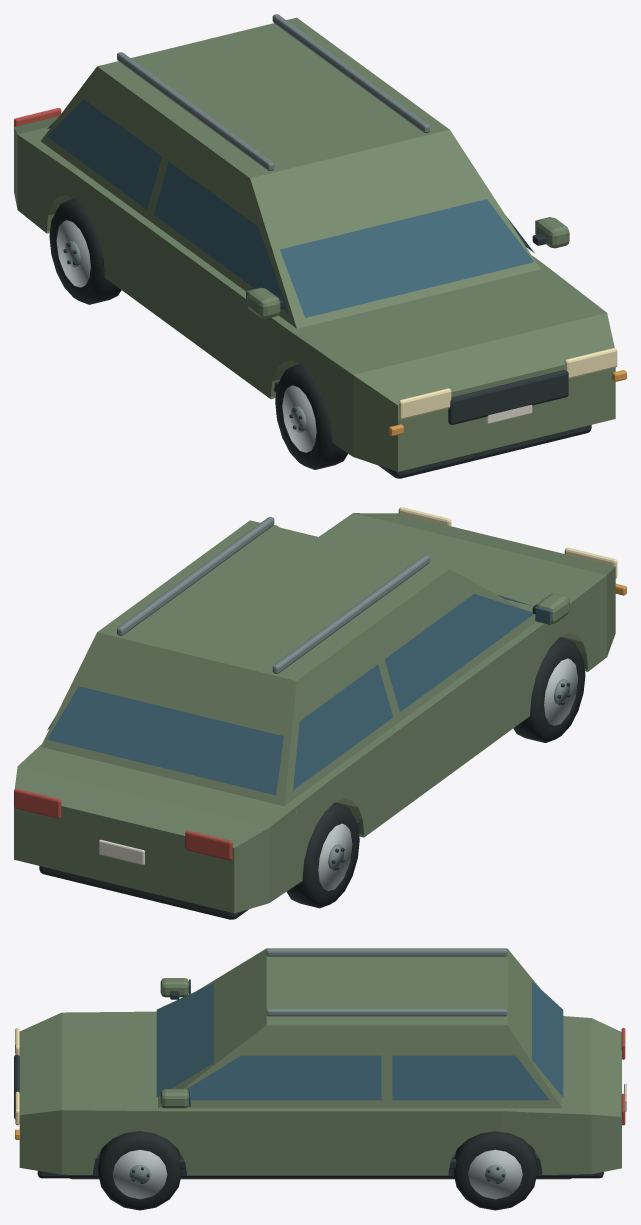
The model's file is original-car-wagon-04.glb.
The picture shows the model from 3 angles, top to bottom: view 1: azimuth 30°, elevation 25°; view 2: azimuth 150°, elevation 25°; view 3: azimuth 270°, elevation 25°; orthographic projection. The views are drawn at different scales.
Parts seen in each view (by area): view 1: BodyShell, CabinShell, Windscreen, WindowFront, WindowRear, Grille, Tyre_FR, Tyre_RR, RoofRail, RoofRail.001, Frame, Rim_FR (+5 smaller); view 2: BodyShell, CabinShell, RearGlass, WindowFront, WindowRear, Tyre_RR, Tyre_FR, RoofRail, RoofRail.001, Frame, Rim_RR, Rim_FR (+4 smaller); view 3: BodyShell, CabinShell, WindowFront.001, WindowRear.001, Windscreen, Tyre_FL, Tyre_RL, RearGlass, Frame, RoofRail, RoofRail.001, Rim_RL (+4 smaller).
Part boxes in pixels (box(x1,y1,x2,y2)): BodyShell: box(14, 116, 615, 471); CabinShell: box(41, 17, 540, 328); Windscreen: box(280, 199, 533, 317); WindowFront: box(154, 161, 288, 313); WindowRear: box(47, 99, 162, 209); Grille: box(448, 370, 568, 424); Tyre_FR: box(275, 364, 347, 469); Tyre_RR: box(49, 199, 121, 304); RoofRail: box(117, 52, 274, 171); RoofRail.001: box(272, 14, 429, 133); Frame: box(379, 425, 591, 478); Rim_FR: box(282, 385, 316, 452); BodyShell: box(14, 513, 615, 913); CabinShell: box(40, 520, 536, 806); RearGlass: box(47, 686, 283, 795); WindowFront: box(384, 594, 533, 712); WindowRear: box(293, 664, 392, 790); Tyre_RR: box(286, 802, 359, 908); Tyre_FR: box(513, 637, 585, 742); RoofRail: box(272, 555, 429, 673); RoofRail.001: box(117, 517, 274, 635); Frame: box(39, 866, 248, 919); Rim_RR: box(318, 823, 352, 890); Rim_FR: box(544, 658, 578, 725); BodyShell: box(19, 1011, 621, 1175); CabinShell: box(158, 948, 561, 1108); WindowFront.001: box(186, 1055, 381, 1100); WindowRear.001: box(392, 1055, 549, 1100); Windscreen: box(156, 983, 213, 1097); Tyre_FL: box(98, 1131, 181, 1210); Tyre_RL: box(453, 1131, 537, 1210); RearGlass: box(532, 981, 563, 1097); Frame: box(37, 1147, 603, 1178); RoofRail: box(266, 949, 507, 956); RoofRail.001: box(266, 1009, 507, 1016); Rim_RL: box(468, 1149, 522, 1199).
Size of the model in its own units: 2.17 by 1.56 by 4.73.
